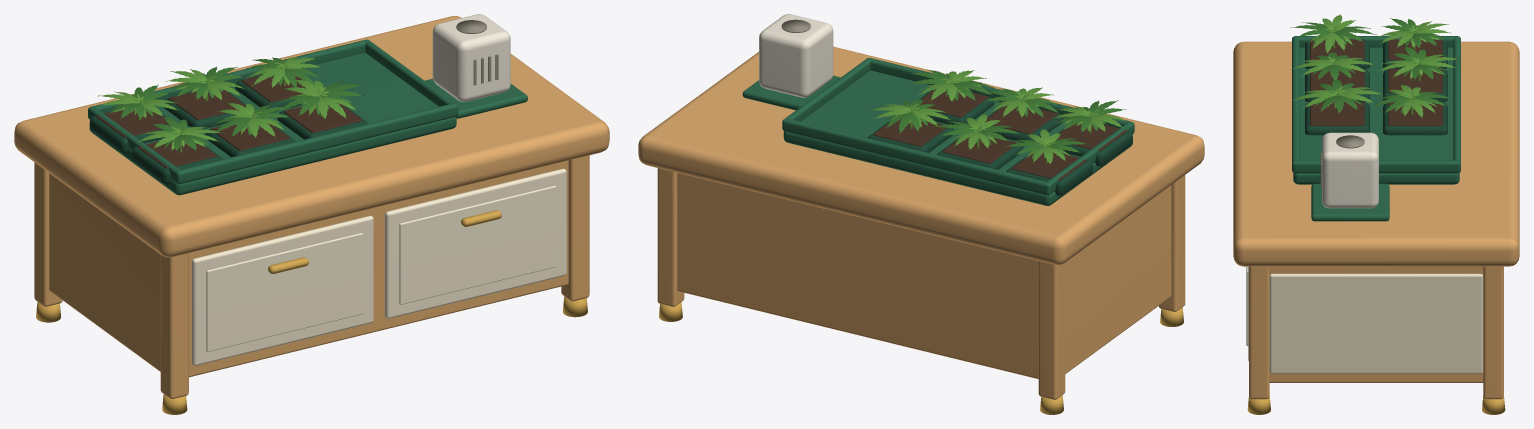
Rendered from seeds_bench_tier2.glb.
3 views of the same model, side by side, from view 1: azimuth 30°, elevation 25°; view 2: azimuth 150°, elevation 25°; view 3: azimuth 270°, elevation 25° (orthographic). The views are drawn at different scales.
Visible parts, largest first — view 1: Top, Carcass, DrawerInset0, DrawerInset1, Tray, Drawer0, Drawer1, Humidifier, TrayRim1, Leg-1-1, Leg1-1, Leg-11 (+16 smaller); view 2: Carcass, Top, Tray, Humidifier, TrayRim0, Leg-11, Leg11, Leg-1-1, TrayRim1, TrayRim2, Soil01, Soil12 (+12 smaller); view 3: Top, EndPanel, Tray, Humidifier, Carcass, Leg1-1, Leg11, HumidPad, TrayRim2, Soil02, TrayRim0, TrayRim1 (+35 smaller).
Boxes of the visible parts, bbox=[...] form: Top: bbox=[14, 16, 609, 257]; Carcass: bbox=[49, 160, 568, 377]; DrawerInset0: bbox=[206, 232, 363, 351]; DrawerInset1: bbox=[399, 185, 556, 304]; Tray: bbox=[89, 52, 456, 195]; Drawer0: bbox=[191, 215, 373, 365]; Drawer1: bbox=[384, 168, 566, 318]; Humidifier: bbox=[432, 14, 510, 101]; TrayRim1: bbox=[175, 103, 458, 184]; Leg-1-1: bbox=[160, 253, 188, 398]; Leg1-1: bbox=[561, 155, 589, 301]; Leg-11: bbox=[34, 162, 62, 306]; Carcass: bbox=[677, 173, 1171, 378]; Top: bbox=[638, 46, 1204, 265]; Tray: bbox=[783, 70, 1132, 205]; Humidifier: bbox=[759, 14, 833, 97]; TrayRim0: bbox=[782, 118, 1051, 195]; Leg-11: bbox=[1038, 261, 1065, 399]; Leg11: bbox=[657, 168, 684, 306]; Leg-1-1: bbox=[1159, 175, 1185, 311]; TrayRim1: bbox=[867, 58, 1134, 133]; TrayRim2: bbox=[785, 58, 870, 121]; Soil01: bbox=[985, 105, 1057, 134]; Soil12: bbox=[873, 118, 946, 146]; Top: bbox=[1233, 41, 1519, 266]; EndPanel: bbox=[1269, 273, 1483, 373]; Tray: bbox=[1293, 47, 1459, 184]; Humidifier: bbox=[1322, 132, 1378, 208]; Carcass: bbox=[1269, 266, 1483, 382]; Leg1-1: bbox=[1249, 266, 1269, 399]; Leg11: bbox=[1483, 266, 1503, 399]; HumidPad: bbox=[1311, 183, 1389, 221]; TrayRim2: bbox=[1296, 160, 1456, 173]; Soil02: bbox=[1310, 102, 1364, 125]; TrayRim0: bbox=[1453, 36, 1460, 173]; TrayRim1: bbox=[1292, 36, 1299, 173].
Bounding box in the file's own units: 1.85 × 1.03 × 1.1.
